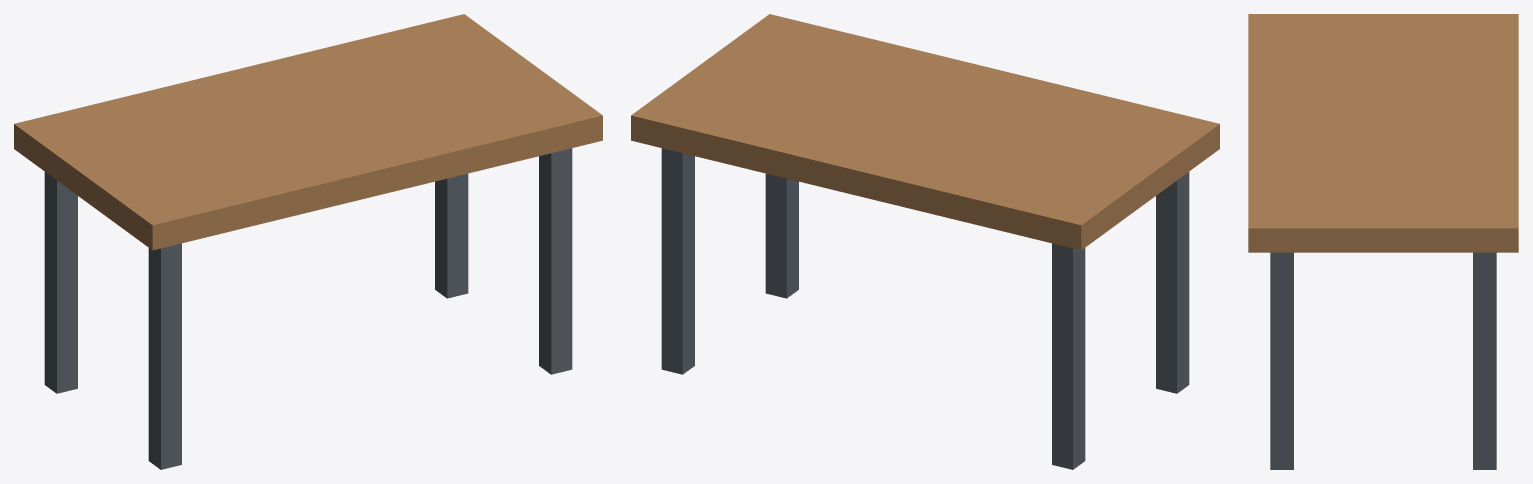
3 renders of one model, left to right at view 1: azimuth 30°, elevation 25°; view 2: azimuth 150°, elevation 25°; view 3: azimuth 270°, elevation 25°, orthographic. The views are drawn at different scales.
Parts seen in each view (by area): view 1: top, leg10, leg00, leg01, leg11; view 2: top, leg11, leg01, leg00, leg10; view 3: top, leg10, leg11.
Part boxes in pixels (x1,y1,x2,y2): top: (14, 14, 602, 250); leg10: (539, 148, 572, 374); leg00: (148, 243, 181, 469); leg01: (44, 172, 77, 393); leg11: (435, 173, 468, 298); top: (631, 14, 1219, 250); leg11: (661, 148, 694, 374); leg01: (1052, 243, 1085, 469); leg00: (1156, 172, 1189, 393); leg10: (765, 173, 798, 298); top: (1248, 14, 1518, 252); leg10: (1270, 252, 1293, 469); leg11: (1473, 252, 1496, 469).
Size of the model in its own units: 1.5 by 0.82 by 0.8.
